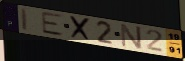2: (95, 21, 114, 46), (145, 29, 164, 53)
E: (41, 11, 66, 37)
I: (20, 7, 29, 33)
N: (120, 23, 143, 51)
X: (69, 15, 93, 43)
